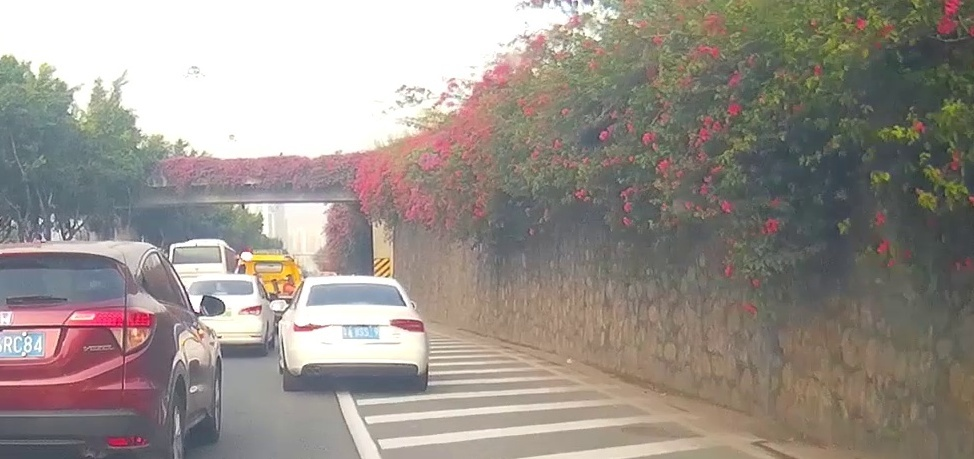L_light: (293, 319, 329, 331)
R_light: (390, 319, 424, 332)
T_light: (345, 284, 367, 288)
day-left: (284, 275, 428, 392)
